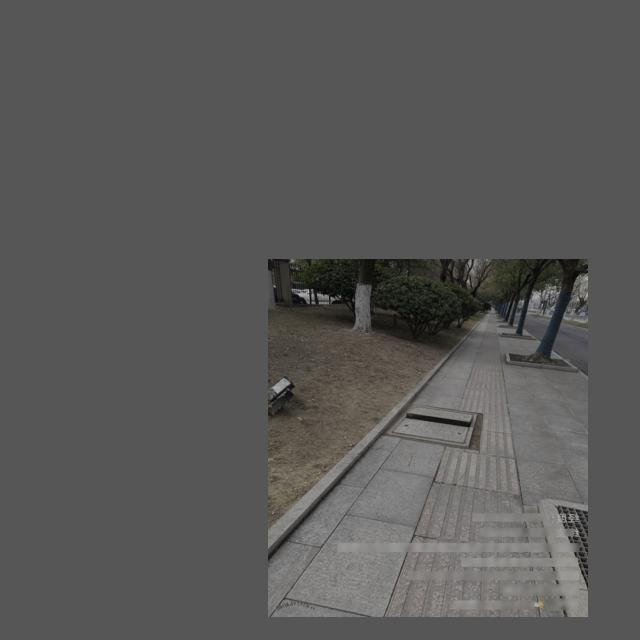uncovered: (388, 405, 480, 448)
